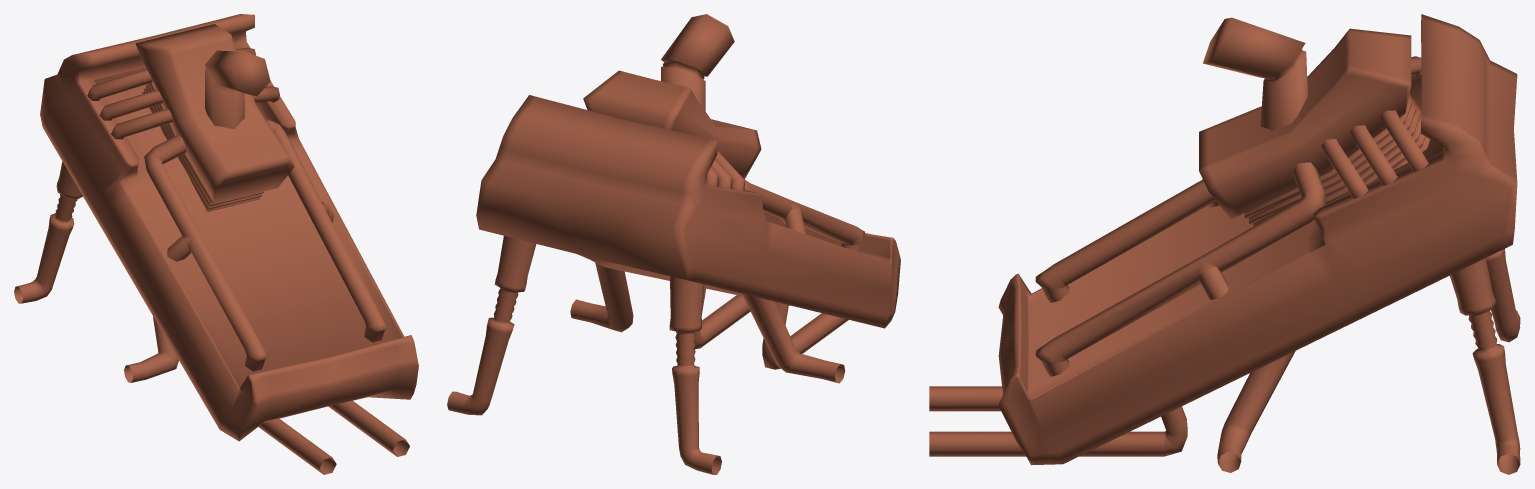
Rendered from chassis-lvl1.obj.
The picture shows the model from 3 angles, left to right: view 1: azimuth 30°, elevation 25°; view 2: azimuth 150°, elevation 25°; view 3: azimuth 270°, elevation 25°; orthographic projection. The views are drawn at different scales.
Visible parts, largest first — view 1: Chassis-Lvl1-Base_Chassis-Lvl1_Cube.001; view 2: Chassis-Lvl1-Base_Chassis-Lvl1_Cube.001; view 3: Chassis-Lvl1-Base_Chassis-Lvl1_Cube.001.
Boxes of the visible parts, bbox=[...] form: Chassis-Lvl1-Base_Chassis-Lvl1_Cube.001: bbox=[14, 14, 418, 474]; Chassis-Lvl1-Base_Chassis-Lvl1_Cube.001: bbox=[447, 14, 900, 474]; Chassis-Lvl1-Base_Chassis-Lvl1_Cube.001: bbox=[929, 14, 1520, 474].
Bounding box in the file's own units: 3.46 × 4.56 × 5.9.
